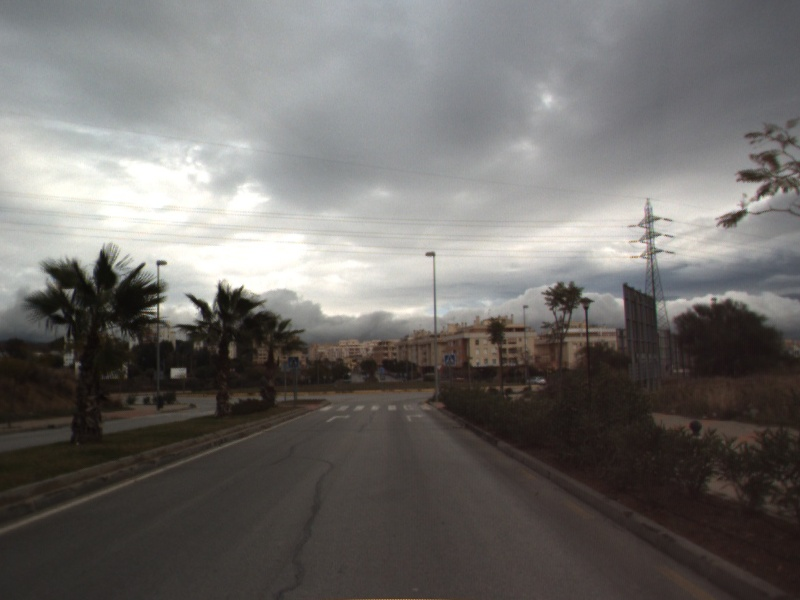RIGHT: (324, 412, 352, 424), (404, 411, 426, 424)
